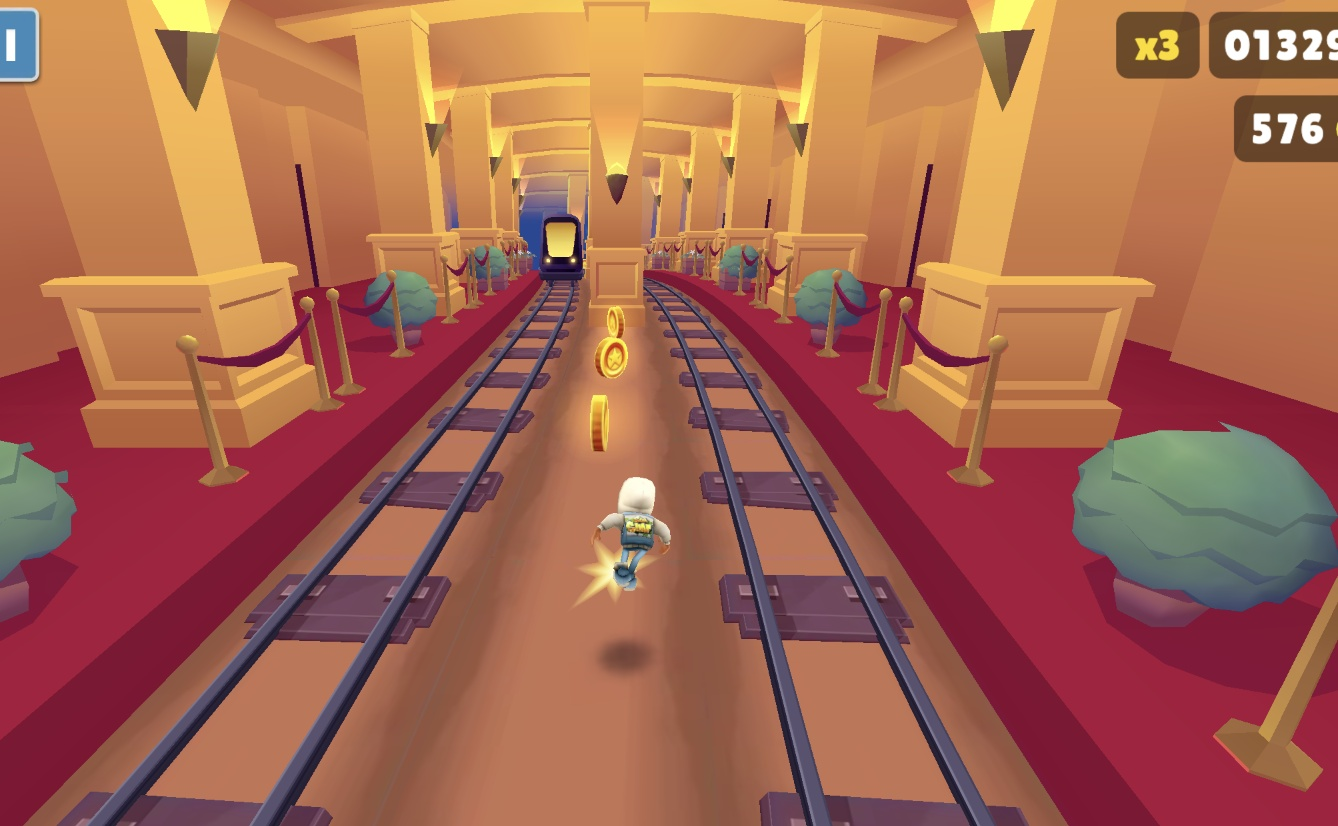pillar: (577, 0, 647, 334)
train: (539, 212, 579, 292)
